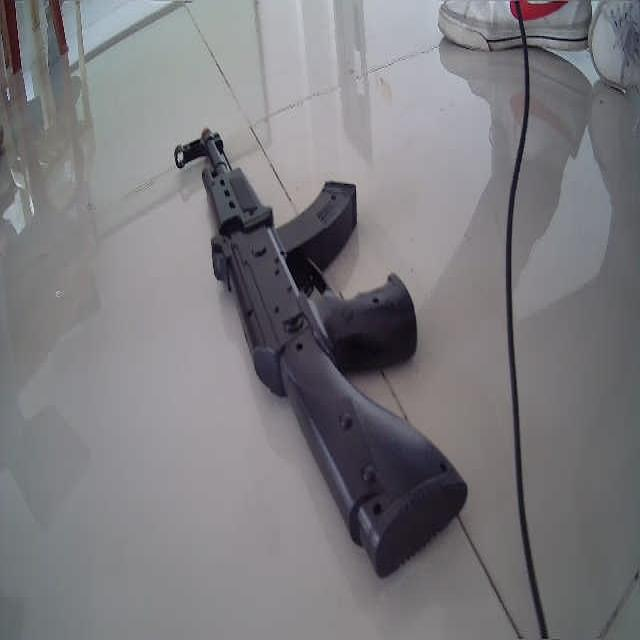rifle: (173, 125, 468, 579)
